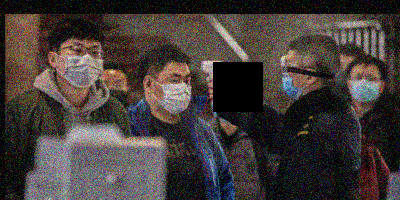with_mask: (57, 41, 105, 88), (156, 71, 193, 114), (281, 53, 309, 101), (349, 69, 382, 103), (100, 76, 128, 104)
